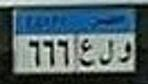6: (57, 38, 71, 67), (27, 38, 41, 67), (42, 38, 55, 69)
ain: (80, 38, 95, 69)
laam: (98, 37, 114, 68)
waw: (117, 39, 133, 65)
